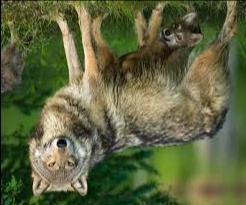Non_Gorille: (12, 14, 239, 202)
